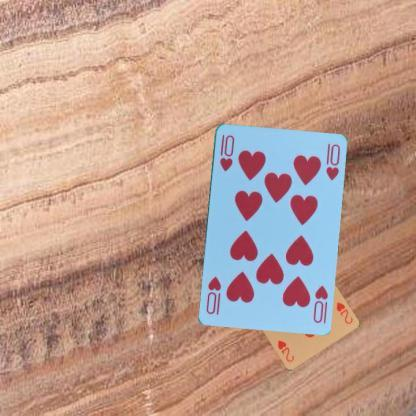10h: (310, 282, 329, 324), (217, 131, 235, 172)
2h: (332, 300, 353, 326)
